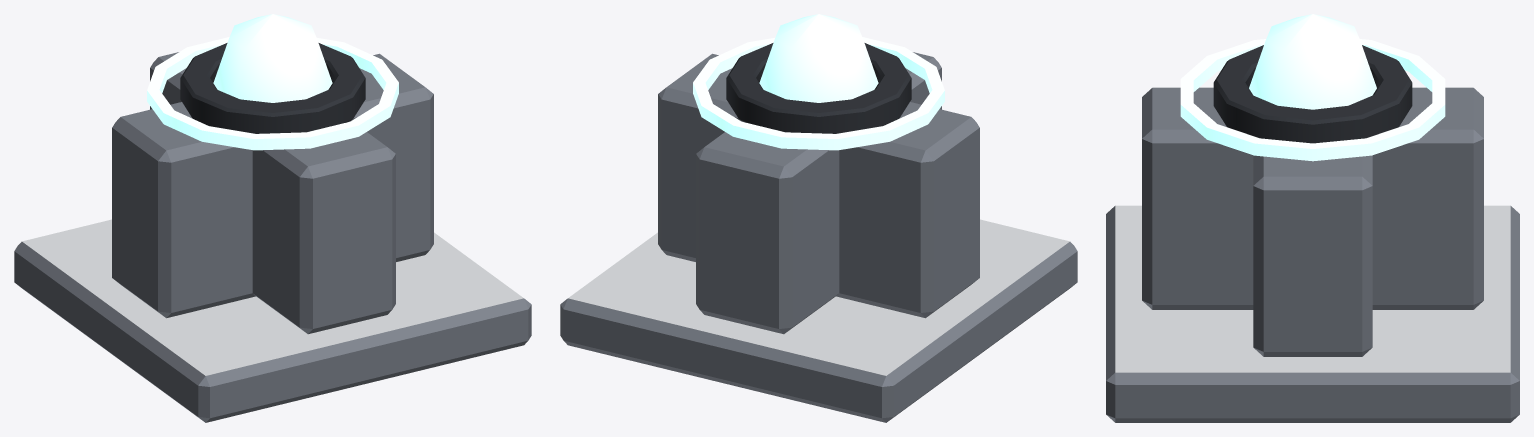
Rendered from R4X_RepairPulse_LOD1.fbx.
3 renders of one model, left to right at view 1: azimuth 30°, elevation 25°; view 2: azimuth 150°, elevation 25°; view 3: azimuth 270°, elevation 25°, orthographic. The views are drawn at different scales.
Parts seen in each view (by area): view 1: R4X_RepairPulse_LOD1; view 2: R4X_RepairPulse_LOD1; view 3: R4X_RepairPulse_LOD1.
Part boxes in pixels (<box>): R4X_RepairPulse_LOD1: <box>14,14,531,422</box>; R4X_RepairPulse_LOD1: <box>560,14,1077,422</box>; R4X_RepairPulse_LOD1: <box>1106,14,1519,422</box>.
Bounding box in the file's own units: 0.52 × 0.4513 × 0.52.
